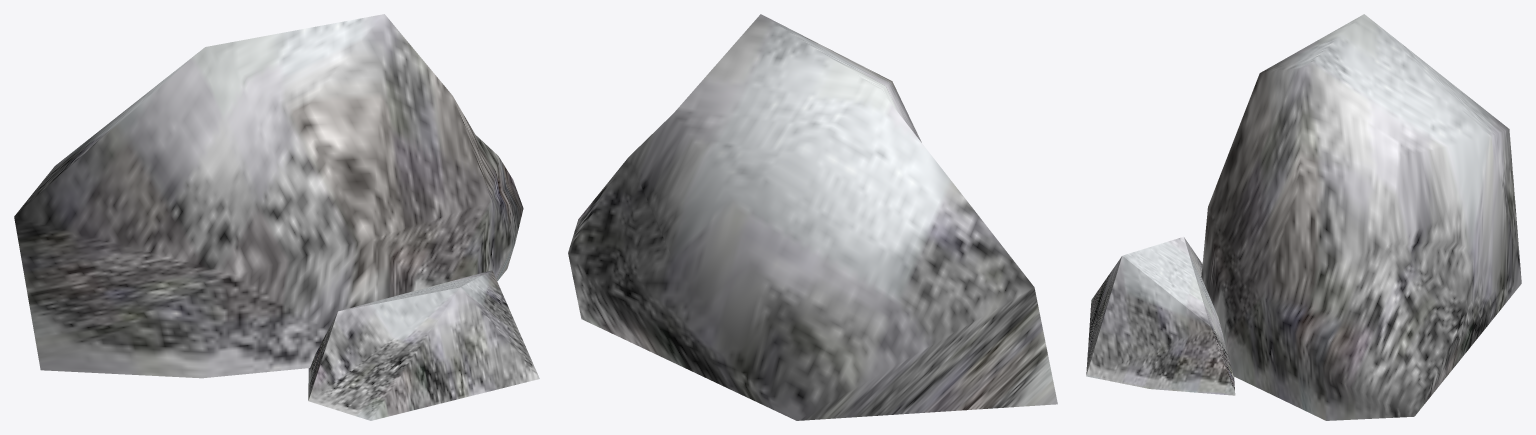
The model's file is wrld_rock_snow2.glb.
3 renders of one model, left to right at view 1: azimuth 30°, elevation 25°; view 2: azimuth 150°, elevation 25°; view 3: azimuth 270°, elevation 25°, orthographic.
Parts seen in each view (by area): view 1: wrld_rock_snow2; view 2: wrld_rock_snow2; view 3: wrld_rock_snow2.
Boxes of the visible parts, x1,y1,x2,y2 form: wrld_rock_snow2: (14, 14, 539, 420); wrld_rock_snow2: (568, 14, 1057, 420); wrld_rock_snow2: (1086, 14, 1521, 420).
Bounding box in the file's own units: 3.68 × 2.18 × 2.96.
Materials: 1 (1 with a texture image).
